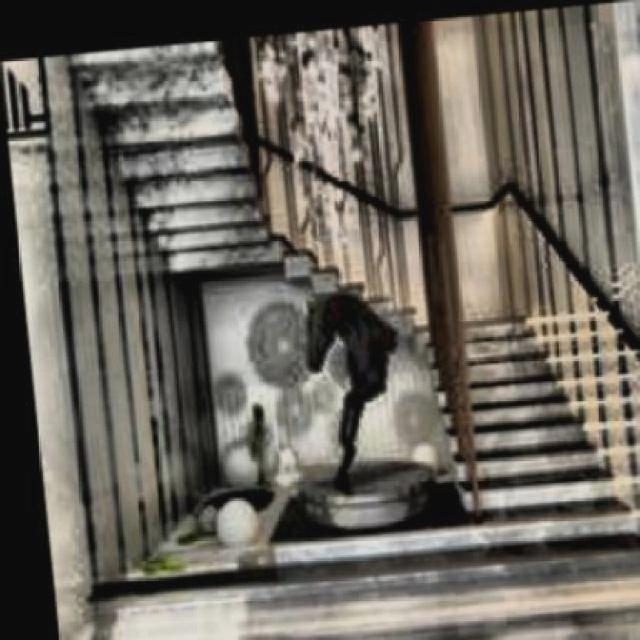stair: (428, 302, 629, 510)
